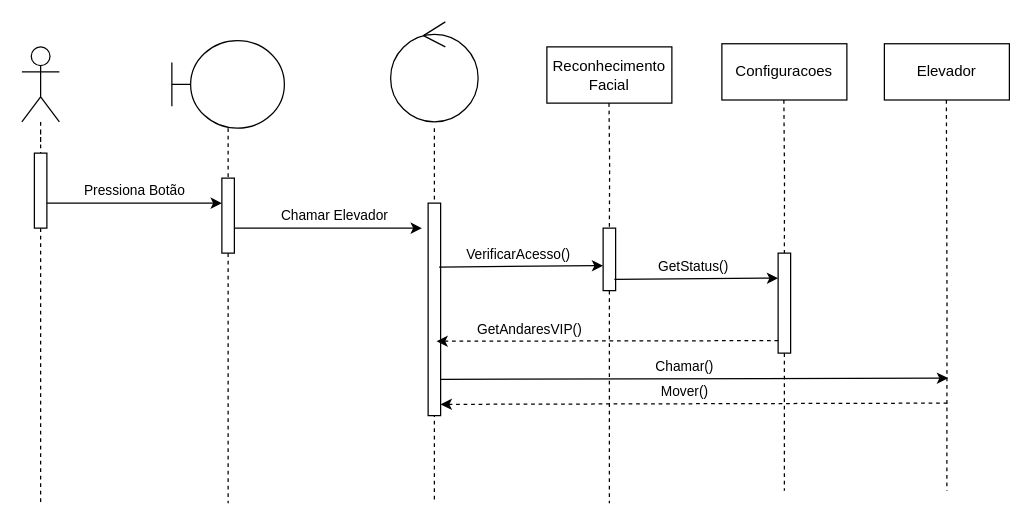
Some shapes in this 1031 by 526 pixel diagram are drawn without their labels. Here are the shapes that lost their labels. From the top down, the centre of each, then its label:
At (227,83): "Boundary Object".
At (433,71): "Control Object".
